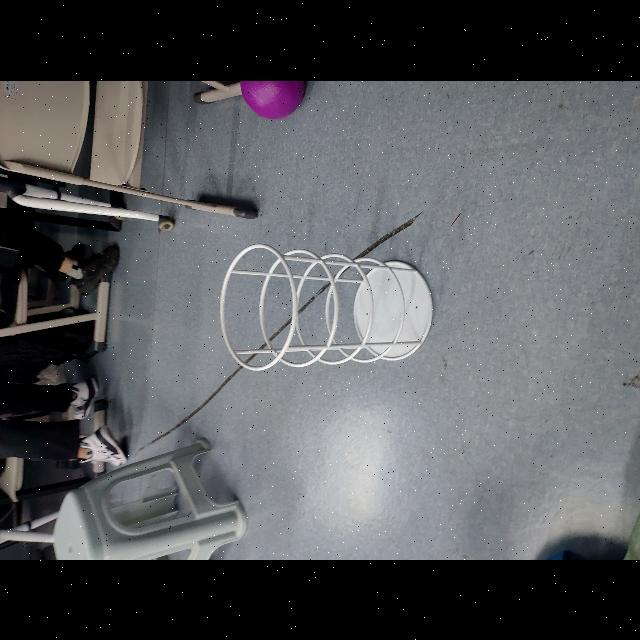S: (219, 241, 436, 371)
